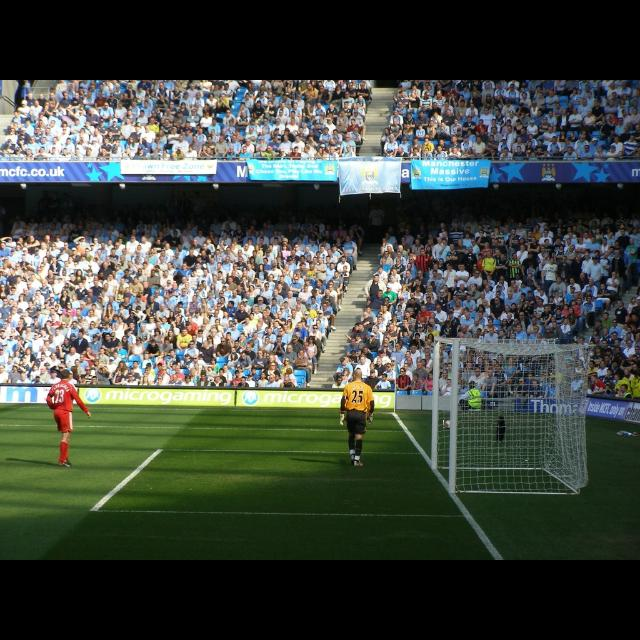Football: (444, 418, 450, 428)
